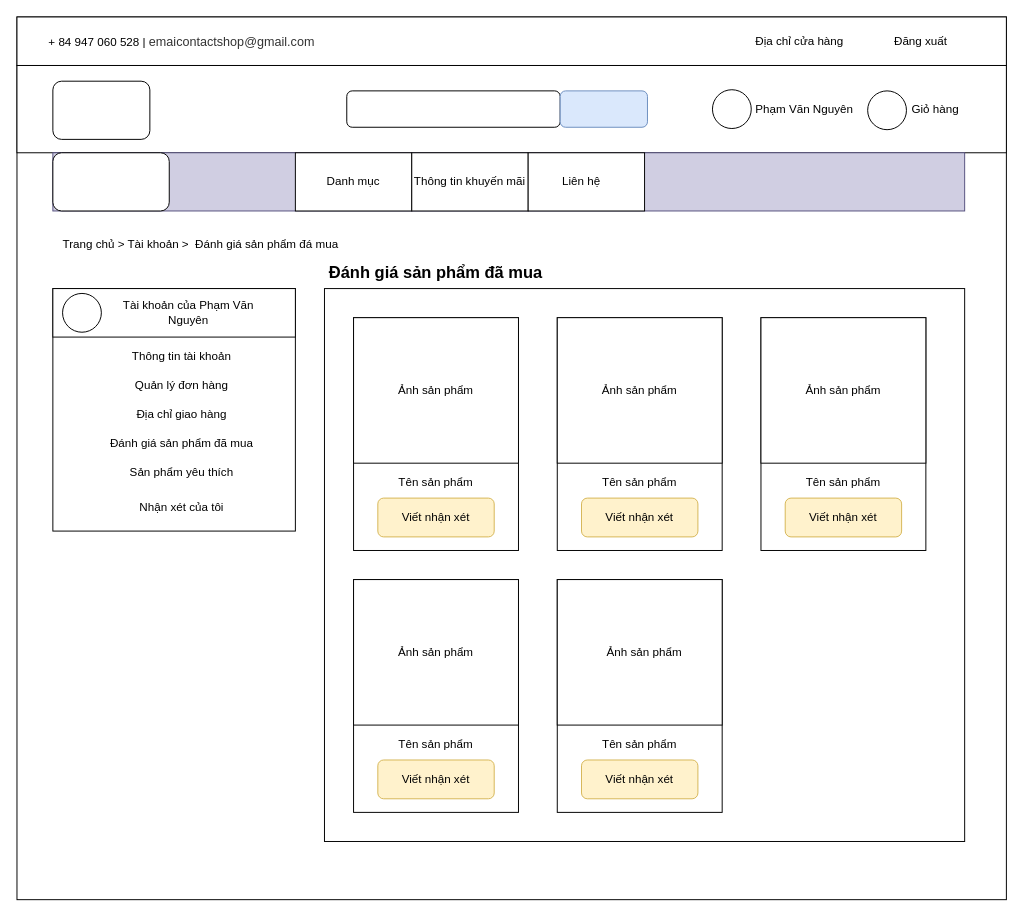
This 1023x917 diagram has some shape labels left out. Each missing label, with the centre of its shape:
"Logo shop" belongs at (x=101, y=109).
"Trang chủ" belongs at (x=110, y=181).
"Tìm kiếm" belongs at (x=603, y=108).
